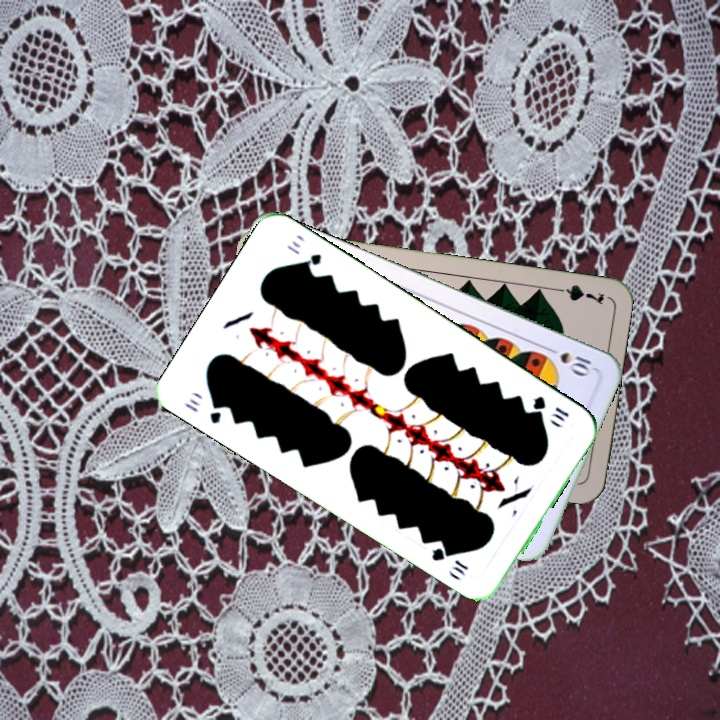G10: (180, 394, 227, 427), (528, 392, 572, 424)
G7: (548, 280, 607, 308)
S10: (541, 342, 597, 379)
